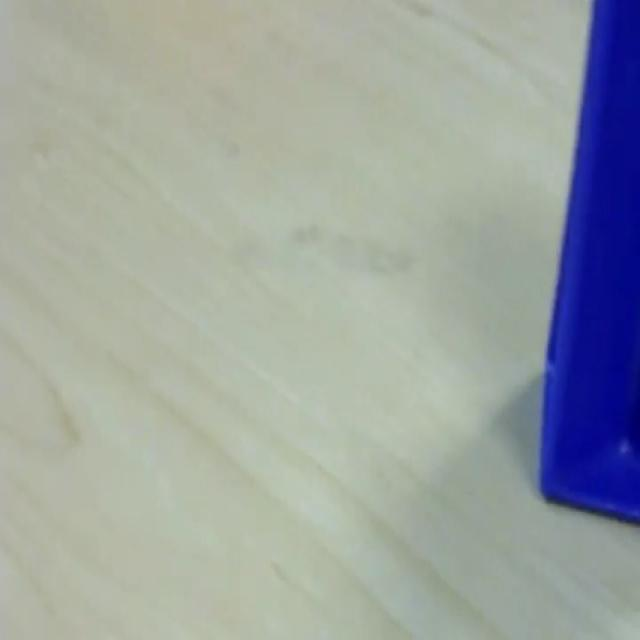blue_block: (536, 0, 638, 524)
